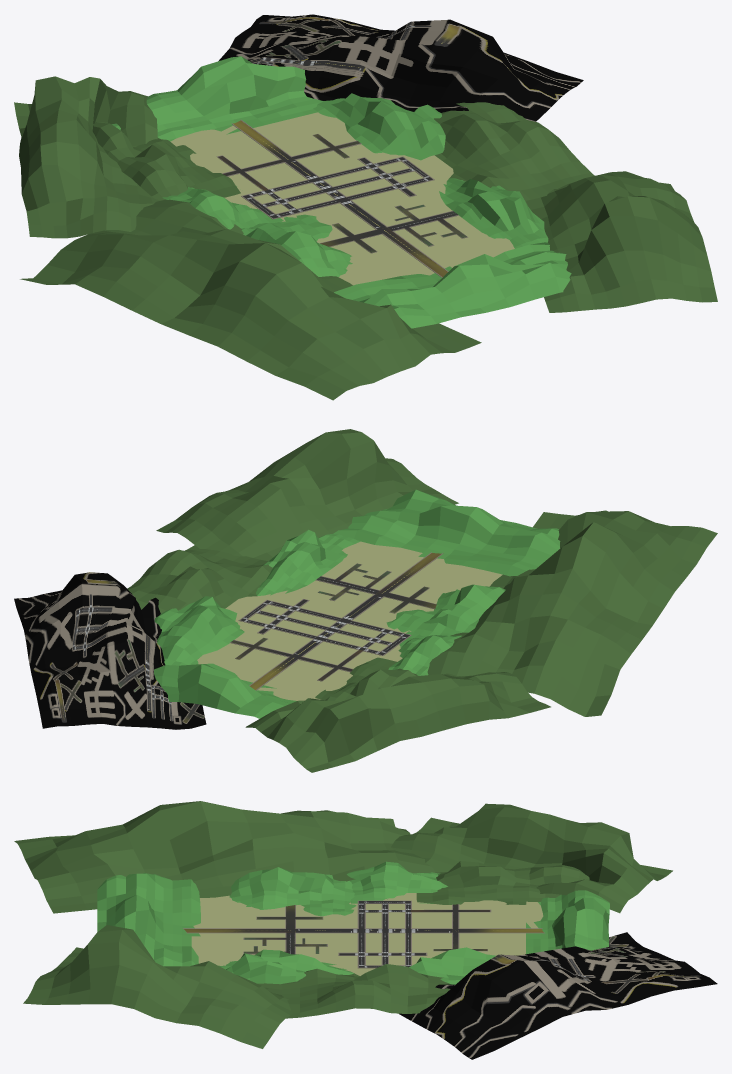
The model's file is background-1.fbx.
3 views of the same model, one above another, from view 1: azimuth 30°, elevation 25°; view 2: azimuth 150°, elevation 25°; view 3: azimuth 270°, elevation 25° (orthographic). The views are drawn at different scales.
Visible parts, largest first — view 1: mountain_10, mountain_11, ground, mountain_12, mountain_08, mountain_01, mountain_09, mountain_06, road, mountain_05, mountain_07, mountain_04 (+2 smaller); view 2: mountain_10, mountain_11, mountain_12, ground, mountain_08, mountain_01, road, mountain_09, mountain_06, mountain_05, mountain_04, mountain_02 (+2 smaller); view 3: mountain_10, mountain_11, mountain_12, ground, mountain_08, mountain_01, mountain_09, road, mountain_07, mountain_02, mountain_06, mountain_03 (+2 smaller).
Part boxes in pixels (x1,y1,x2,y2): mountain_10: (20, 199, 481, 400); mountain_11: (218, 14, 583, 121); ground: (170, 112, 514, 285); mountain_12: (525, 171, 717, 312); mountain_08: (14, 76, 159, 238); mountain_01: (334, 242, 571, 328); mountain_09: (434, 102, 594, 200); mountain_06: (111, 56, 322, 141); road: (217, 119, 467, 277); mountain_05: (313, 93, 445, 160); mountain_07: (93, 122, 240, 200); mountain_04: (439, 178, 548, 248); mountain_10: (427, 510, 717, 716); mountain_11: (14, 572, 206, 729); mountain_12: (156, 429, 458, 561); ground: (197, 541, 502, 700); mountain_08: (245, 672, 550, 772); mountain_01: (333, 489, 560, 576); road: (230, 552, 443, 690); mountain_09: (127, 545, 272, 613); mountain_06: (154, 663, 296, 718); mountain_05: (154, 596, 244, 665); mountain_04: (256, 529, 360, 595); mountain_02: (386, 584, 505, 636); mountain_10: (14, 801, 434, 913); mountain_11: (399, 932, 717, 1059); mountain_12: (23, 925, 292, 1048); ground: (191, 893, 543, 975); mountain_08: (391, 803, 672, 913); mountain_01: (97, 873, 200, 966); mountain_09: (282, 964, 451, 1018); road: (183, 900, 544, 968); mountain_07: (416, 861, 589, 904); mountain_02: (229, 867, 356, 916); mountain_06: (526, 890, 609, 954); mountain_03: (346, 861, 447, 903).
Bounding box in the file's own units: 26140 × 3832 × 30576.
